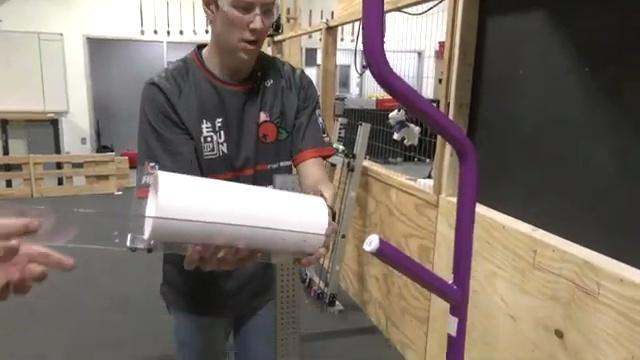CORAL: (139, 167, 330, 256)
